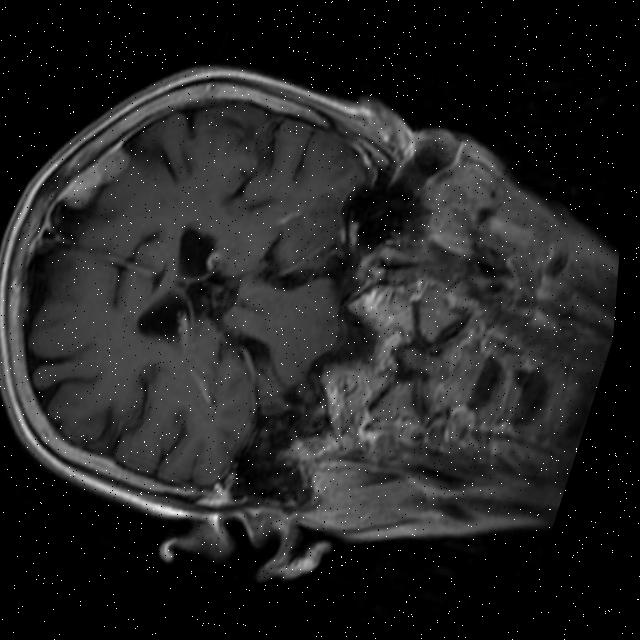Meningioma: (56, 136, 136, 220)
